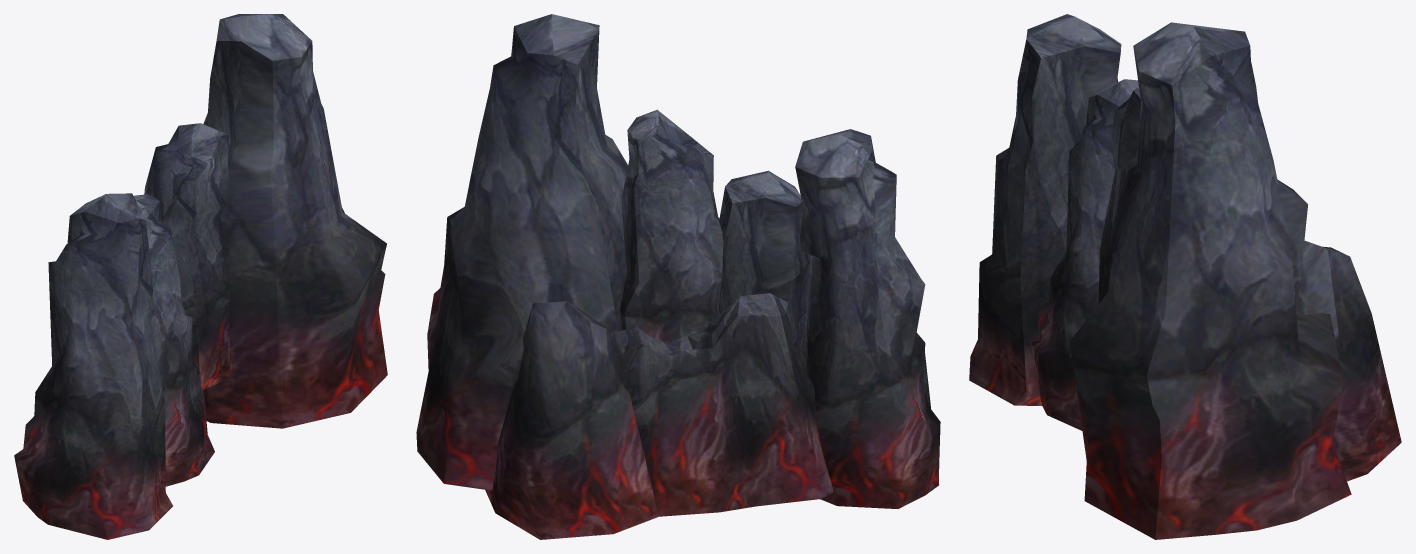
The model's file is environment_stone_yewai_005_a.FBX.
3 renders of one model, left to right at view 1: azimuth 30°, elevation 25°; view 2: azimuth 150°, elevation 25°; view 3: azimuth 270°, elevation 25°, orthographic. The views are drawn at different scales.
Visible parts, largest first — view 1: environment_stone_yewai_005_a; view 2: environment_stone_yewai_005_a; view 3: environment_stone_yewai_005_a.
Boxes of the visible parts, box(x1,y1,x2,y2) form: environment_stone_yewai_005_a: box(14, 14, 387, 539); environment_stone_yewai_005_a: box(416, 14, 940, 539); environment_stone_yewai_005_a: box(969, 14, 1401, 539).
Size of the model in its own units: 1538 by 1490 by 1228.
1 material, 1 textured.
